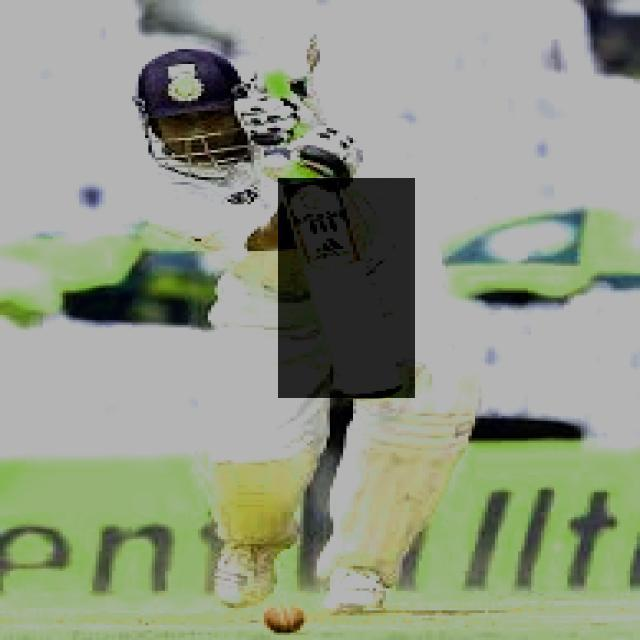bat: (280, 176, 415, 397)
